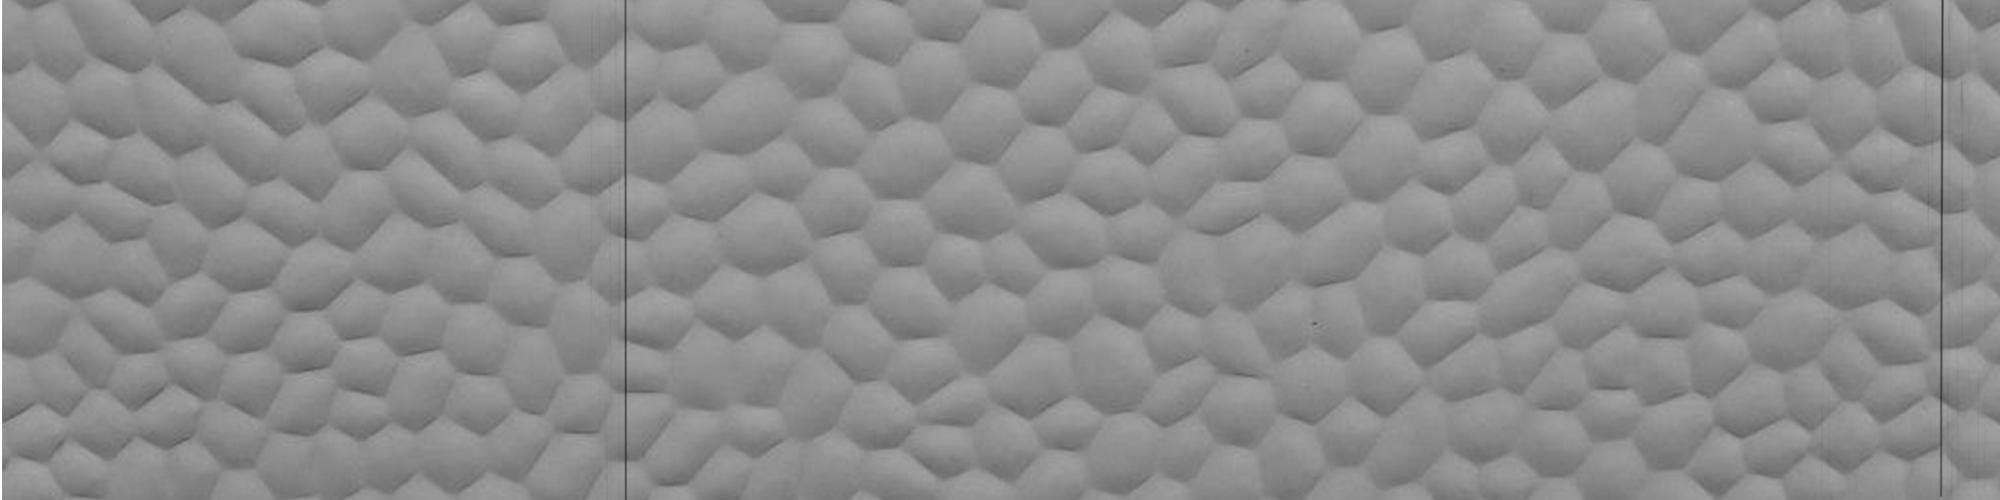DieDrag: (1916, 3, 1974, 497), (582, 3, 636, 500)
